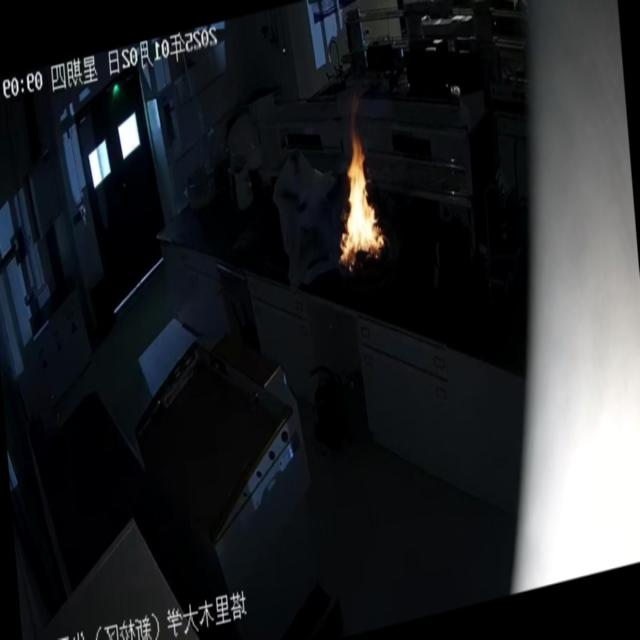fire: (311, 105, 393, 316)
